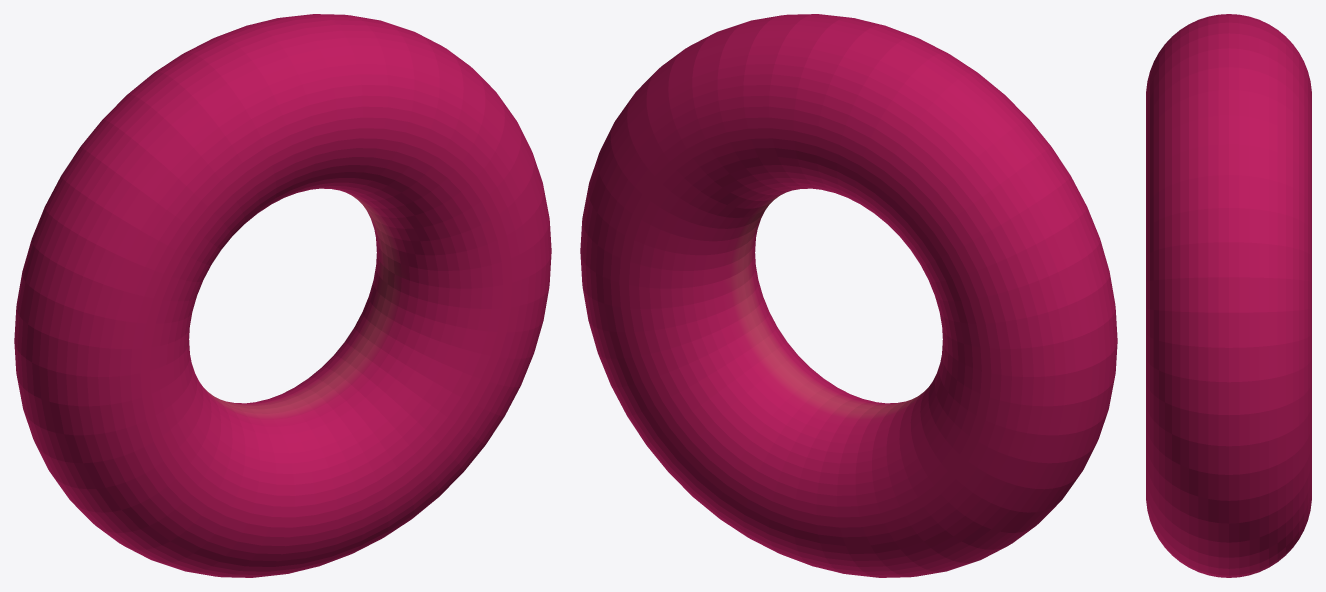
3 views of the same model, side by side, from view 1: azimuth 30°, elevation 25°; view 2: azimuth 150°, elevation 25°; view 3: azimuth 270°, elevation 25° (orthographic). The views are drawn at different scales.
Visible parts, largest first — view 1: world; view 2: world; view 3: world.
Part boxes in pixels (<box>): world: <box>14,14,551,577</box>; world: <box>580,14,1117,577</box>; world: <box>1146,14,1311,577</box>.
Size of the model in its own units: 32.13 by 32.07 by 9.45.
